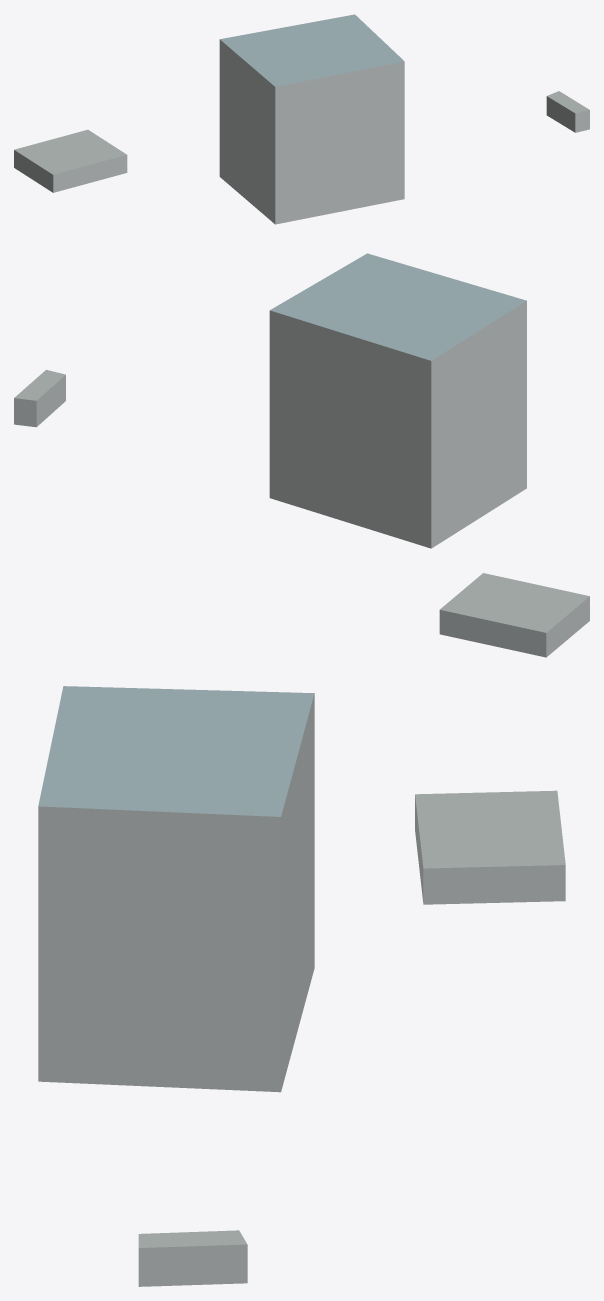
Rendered from far.glb.
The picture shows the model from 3 angles, top to bottom: view 1: azimuth 30°, elevation 25°; view 2: azimuth 150°, elevation 25°; view 3: azimuth 270°, elevation 25°; orthographic projection. The views are drawn at different scales.
Bounding box in the file's own units: 65.94 × 18.4 × 31.96.
